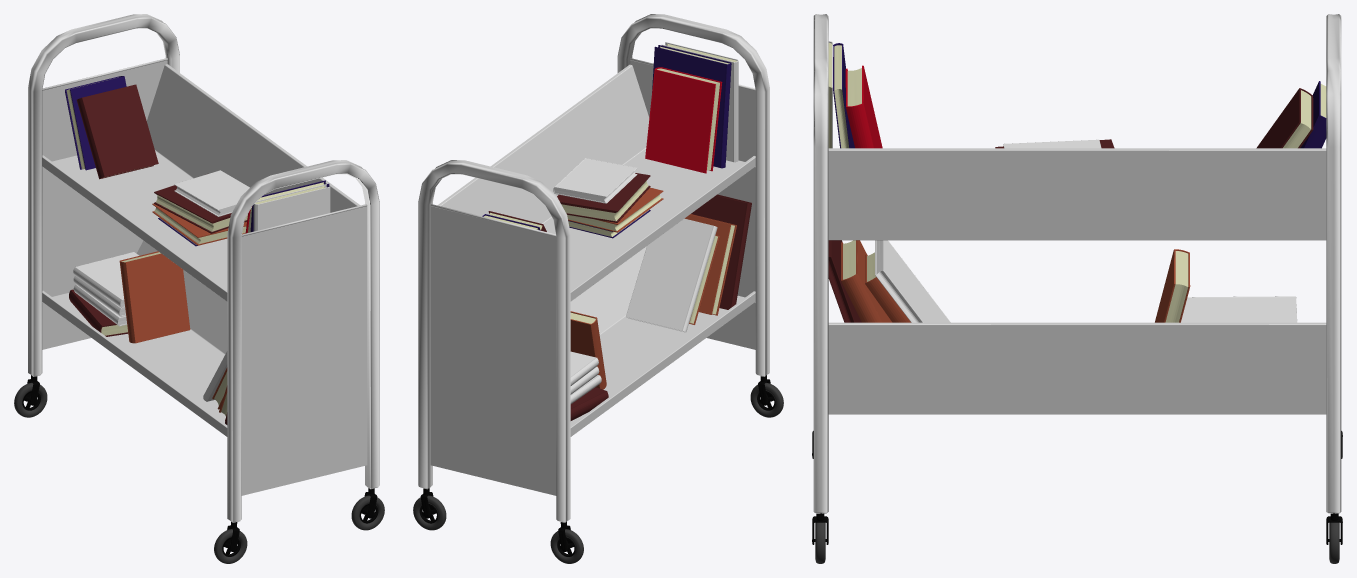
File: Book_Cart.fbx
The picture shows the model from 3 angles, left to right: view 1: azimuth 30°, elevation 25°; view 2: azimuth 150°, elevation 25°; view 3: azimuth 270°, elevation 25°; orthographic projection. The views are drawn at different scales.
Visible parts, largest first — view 1: Cube.031, Cube.005, Cube.038, Cube.002, Cube.009, Cube.001, Cube.037, Cube.008, Cube.007, Cylinder.003, Cylinder.002, Cylinder.001 (+3 smaller); view 2: Cube.031, Cube.032, Cube.003, Cube.006, Cube.009, Cube.010, Cube.008, Cube.033, Cube.038, Cube.002, Cube.007, Cylinder.001 (+5 smaller); view 3: Cube.031, Cube.037, Cube.032, Cube.003, Cube.033, Cube.005, Cube.038, Cube.006, Cube.010, Cube.011, Cube.001, Cube.009 (+2 smaller).
Part boxes in pixels (box(x1,y1,x2,y2)): Cube.031: box(28, 14, 379, 522); Cube.005: box(76, 84, 158, 179); Cube.038: box(119, 251, 190, 343); Cube.002: box(253, 184, 330, 231); Cube.009: box(174, 170, 263, 216); Cube.001: box(65, 76, 126, 170); Cube.037: box(73, 252, 139, 308); Cube.008: box(154, 185, 247, 233); Cube.007: box(152, 203, 246, 245); Cylinder.003: box(14, 375, 47, 417); Cylinder.002: box(351, 488, 384, 530); Cylinder.001: box(214, 522, 247, 563); Cube.031: box(418, 14, 769, 522); Cube.032: box(626, 218, 717, 332); Cube.003: box(645, 67, 722, 173); Cube.006: box(652, 45, 731, 168); Cube.009: box(553, 158, 637, 203); Cube.010: box(691, 194, 751, 309); Cube.008: box(557, 173, 650, 222); Cube.033: box(684, 214, 736, 315); Cube.038: box(570, 311, 606, 389); Cube.002: box(661, 42, 738, 162); Cube.007: box(567, 187, 663, 232); Cylinder.001: box(750, 375, 783, 417); Cube.031: box(813, 14, 1341, 513); Cube.037: box(1181, 296, 1297, 322); Cube.032: box(875, 240, 950, 322); Cube.003: box(845, 65, 882, 148); Cube.033: box(841, 240, 892, 322); Cube.005: box(1256, 88, 1313, 148); Cube.038: box(1155, 249, 1190, 322); Cube.006: box(833, 43, 854, 148); Cube.010: box(828, 240, 861, 322); Cube.011: box(865, 252, 910, 322); Cube.001: box(1300, 81, 1326, 148); Cube.009: box(1003, 139, 1101, 148).
Size of the model in its own units: 68.2 by 145 by 144.
